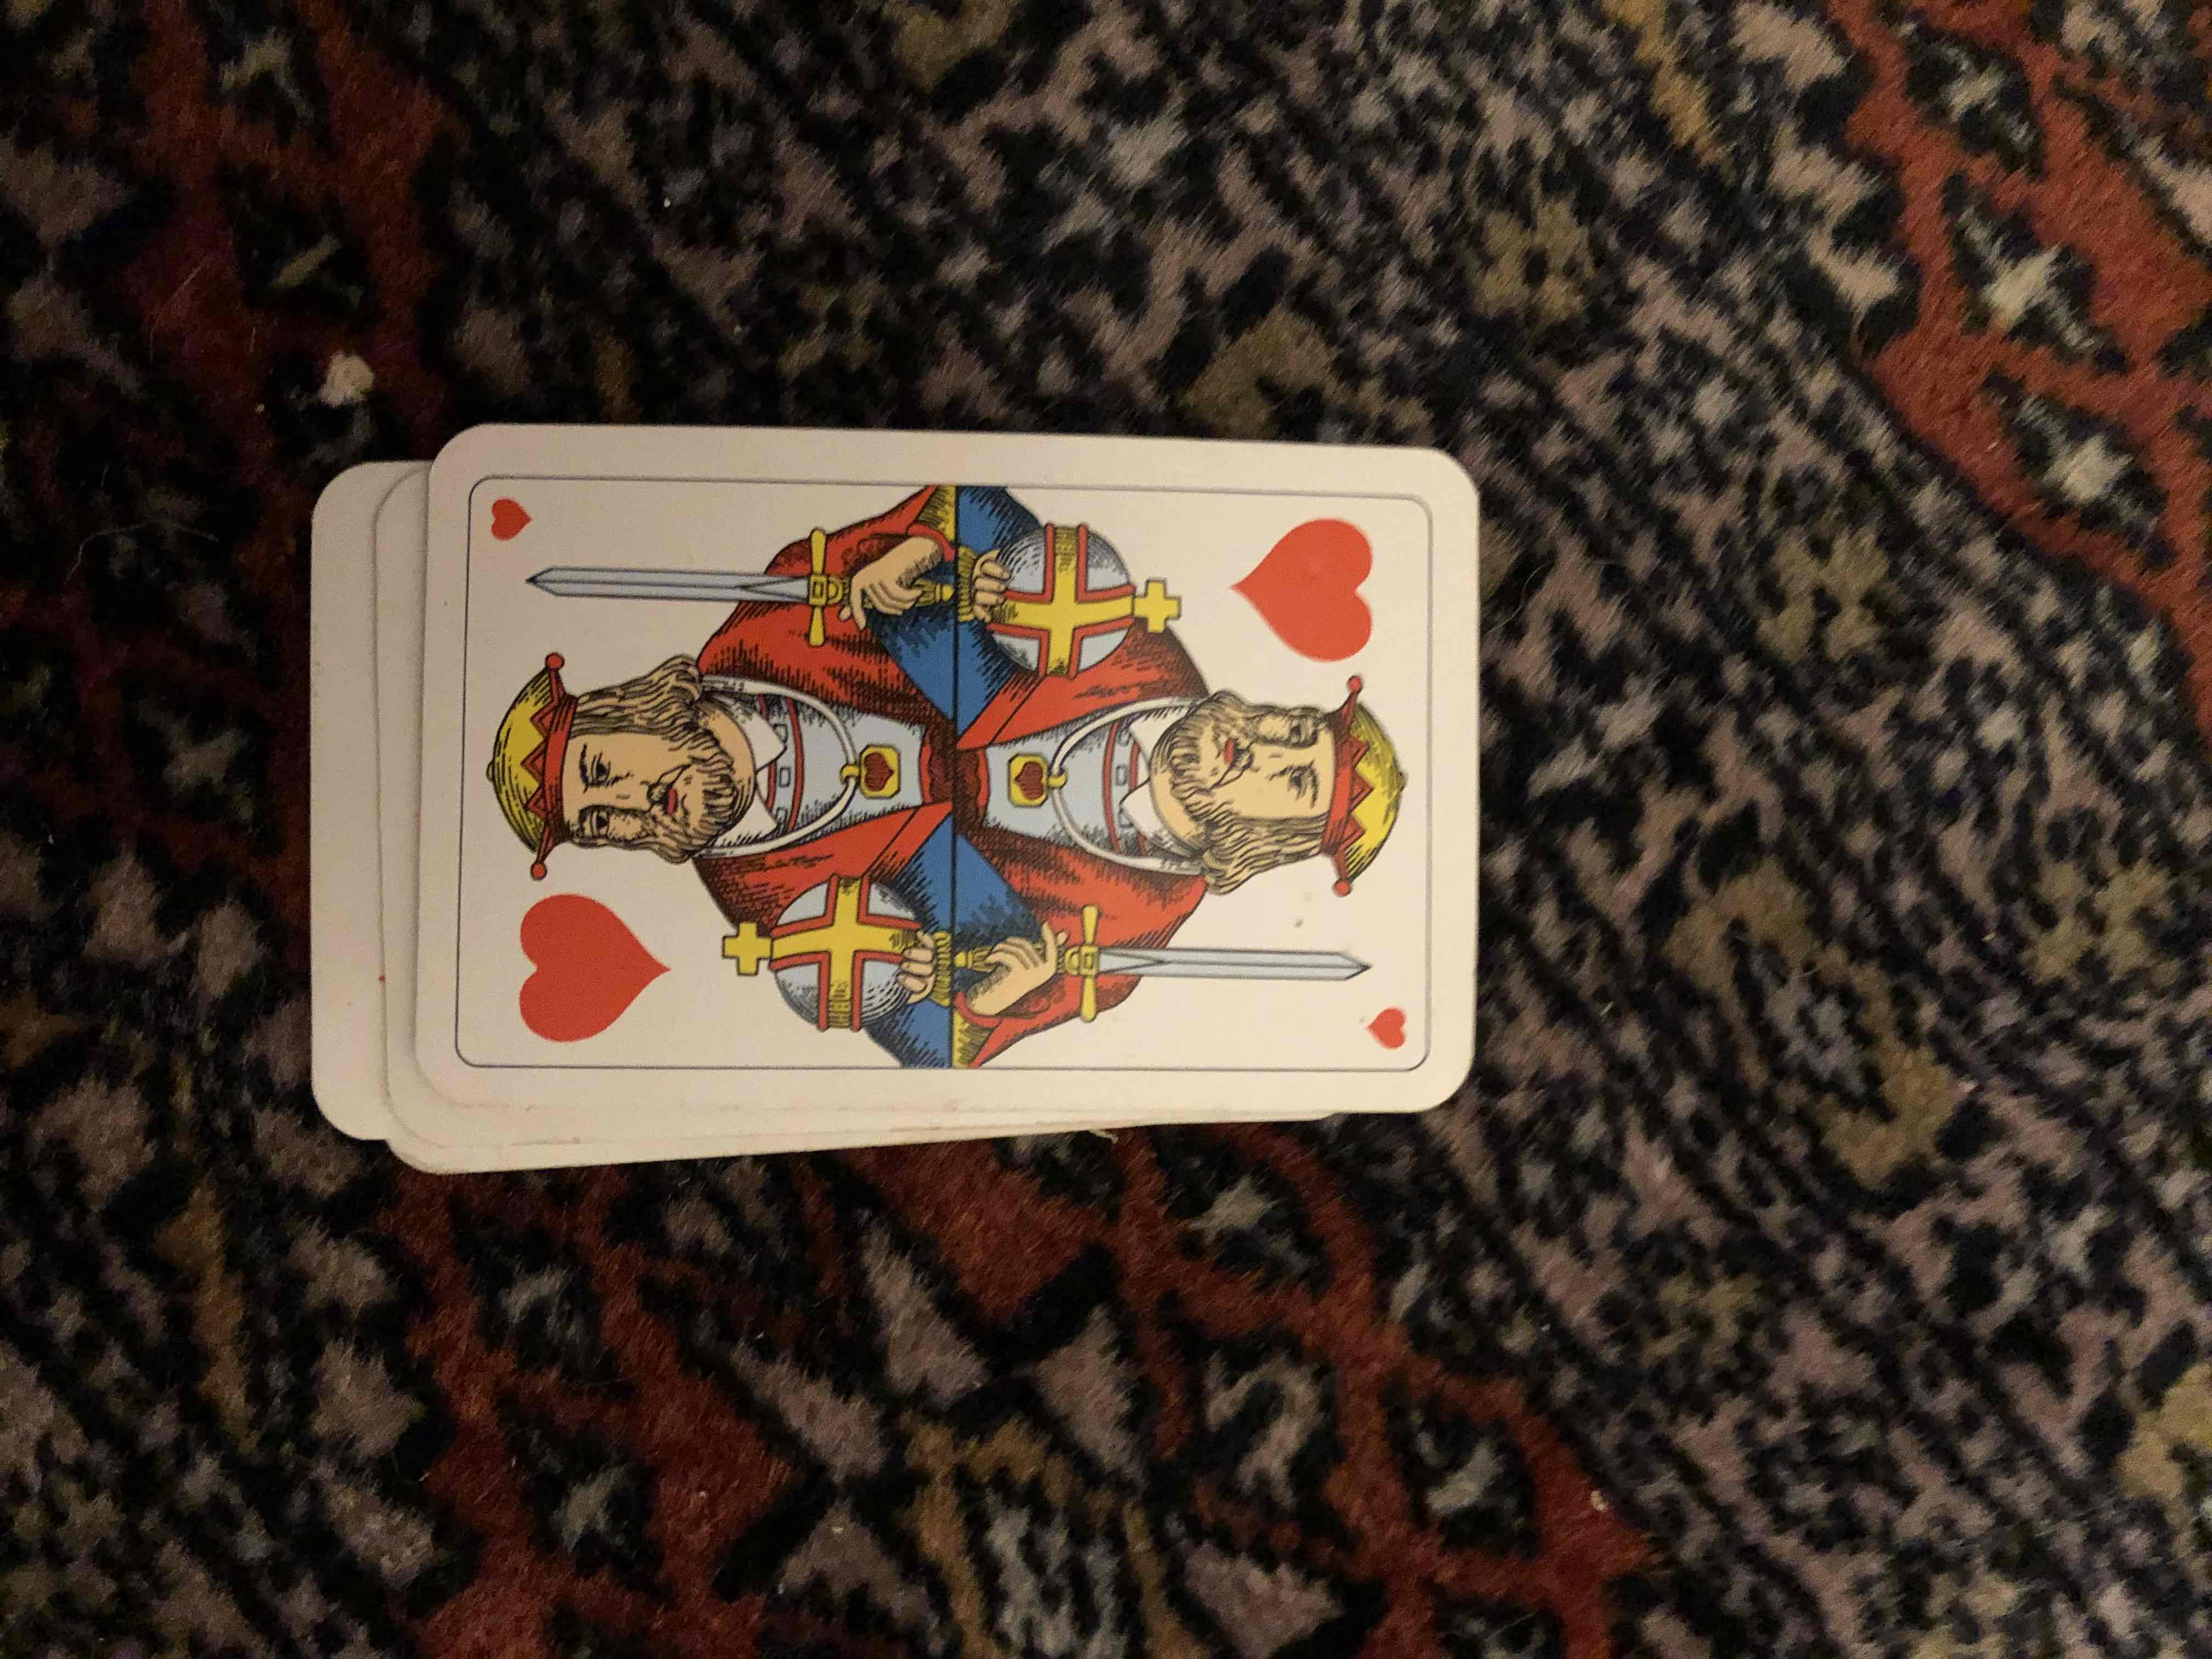heartsKing: (446, 410, 1453, 1108)
